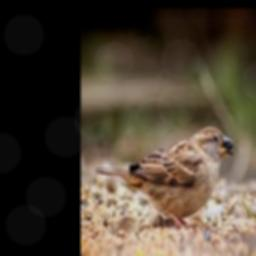Sparrow: (95, 125, 233, 228)
